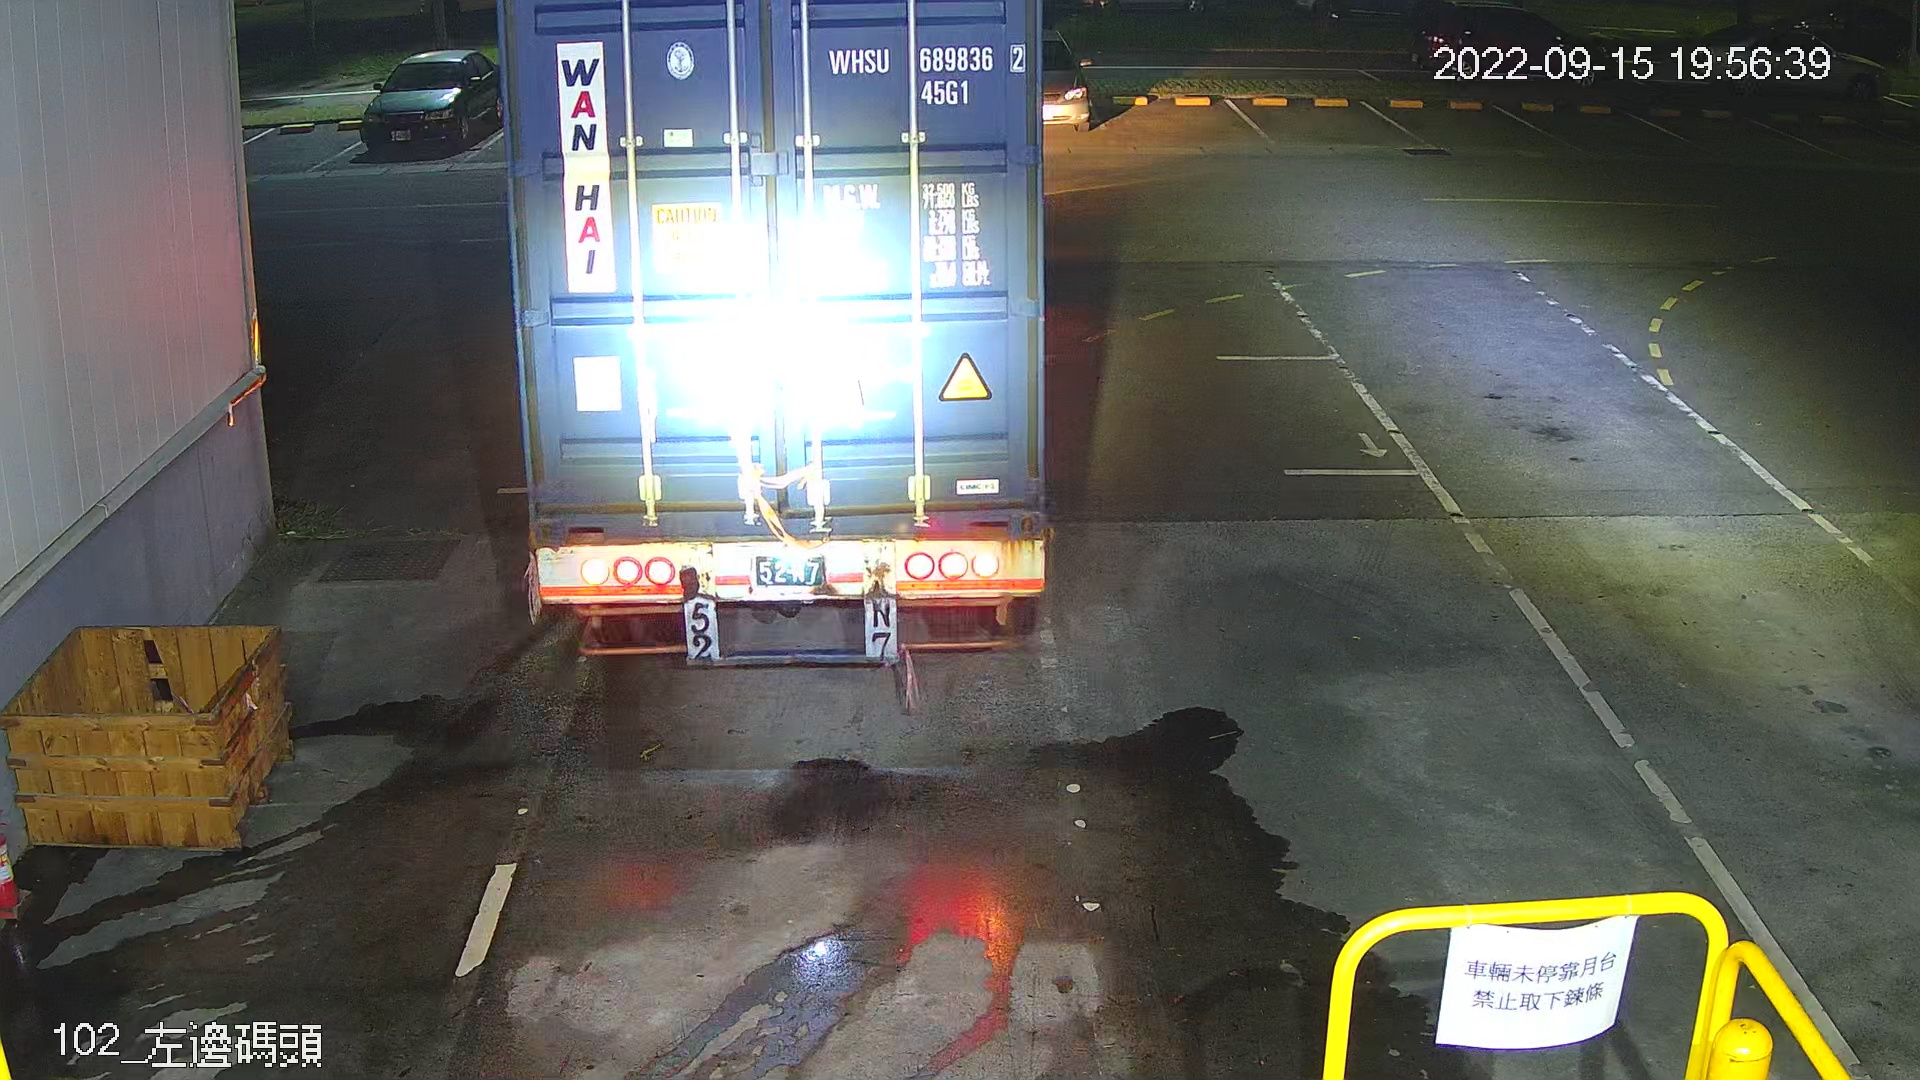container: (814, 38, 1034, 109)
